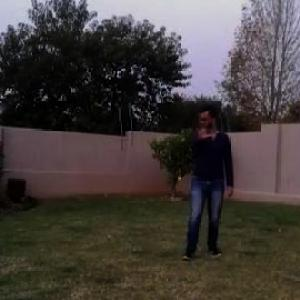follow_hand: (191, 119, 211, 141)
